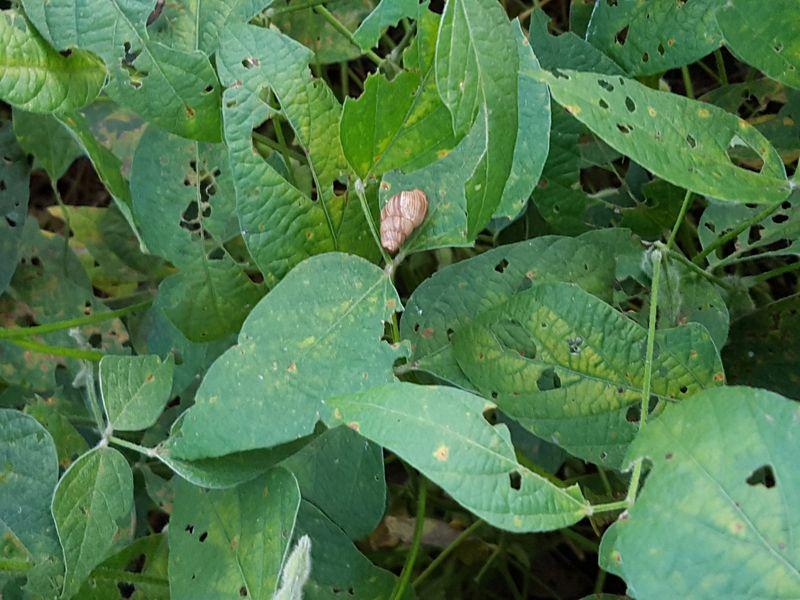Gastropoda: (367, 182, 434, 266)
